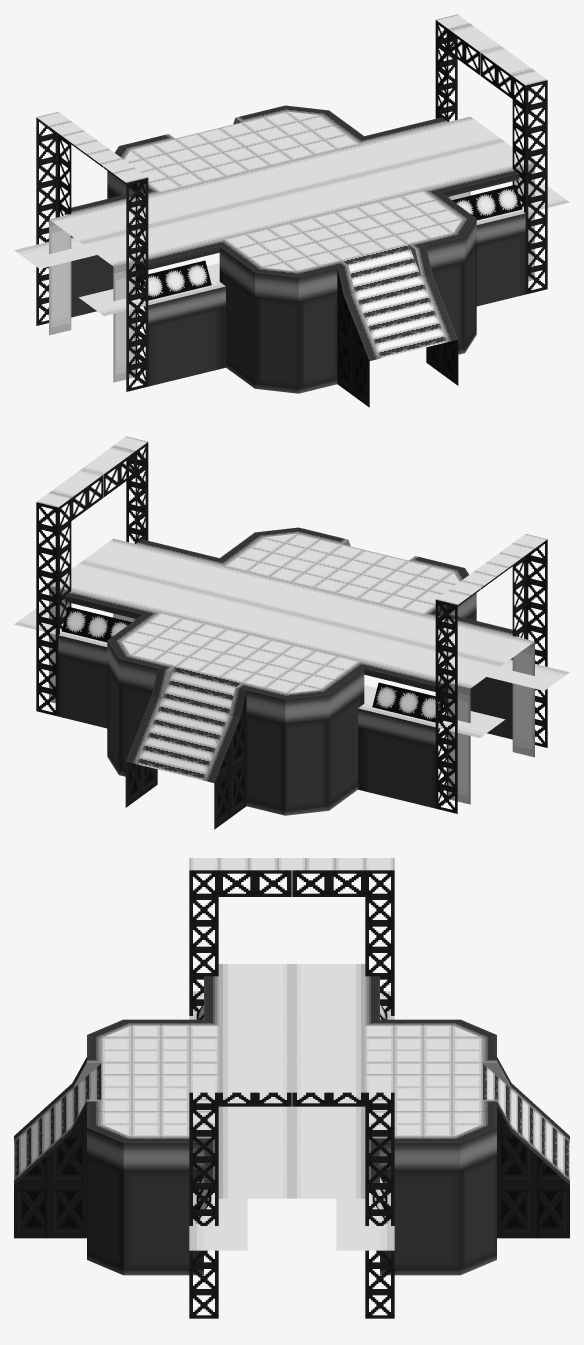
File: GYMSTAGE1-1.obj
3 views of the same model, one above another, from view 1: azimuth 30°, elevation 25°; view 2: azimuth 150°, elevation 25°; view 3: azimuth 270°, elevation 25° (orthographic). The views are drawn at different scales.
Visible parts, largest first — view 1: polygon4, polygon2, polygon10, polygon5, polygon3, polygon10.001, polygon8, polygon7, polygon3.001, polygon2.001; view 2: polygon4, polygon2.001, polygon10.001, polygon5.001, polygon3.001, polygon10, polygon8.001, polygon7.001, polygon3, polygon2; view 3: polygon4, polygon2, polygon2.001, polygon10, polygon10.001, polygon8, polygon8.001, polygon3, polygon3.001, polygon5, polygon5.001.
Part boxes in pixels (left/top/right/bottom): polygon4: left=14, top=14, right=569, bottom=382; polygon2: left=148, top=213, right=525, bottom=393; polygon10: left=103, top=53, right=547, bottom=391; polygon5: left=342, top=244, right=446, bottom=358; polygon3: left=140, top=169, right=519, bottom=361; polygon10.001: left=36, top=20, right=480, bottom=325; polygon8: left=337, top=268, right=458, bottom=407; polygon7: left=139, top=184, right=522, bottom=301; polygon3.001: left=64, top=105, right=447, bottom=214; polygon2.001: left=71, top=171, right=141, bottom=317; polygon4: left=14, top=436, right=569, bottom=804; polygon2.001: left=58, top=635, right=435, bottom=815; polygon10.001: left=36, top=475, right=480, bottom=813; polygon5.001: left=137, top=666, right=241, bottom=780; polygon3.001: left=64, top=591, right=443, bottom=783; polygon10: left=103, top=442, right=547, bottom=747; polygon8.001: left=125, top=690, right=246, bottom=829; polygon7.001: left=61, top=606, right=444, bottom=723; polygon3: left=136, top=527, right=519, bottom=636; polygon2: left=442, top=593, right=512, bottom=739; polygon4: left=101, top=858, right=482, bottom=1250; polygon2: left=87, top=1127, right=203, bottom=1275; polygon2.001: left=380, top=1127, right=496, bottom=1275; polygon10: left=189, top=870, right=291, bottom=1318; polygon10.001: left=292, top=870, right=394, bottom=1318; polygon8: left=14, top=1106, right=86, bottom=1238; polygon8.001: left=497, top=1106, right=569, bottom=1238; polygon3: left=14, top=976, right=218, bottom=1184; polygon3.001: left=365, top=976, right=569, bottom=1184; polygon5: left=14, top=1063, right=101, bottom=1178; polygon5.001: left=482, top=1063, right=569, bottom=1178.
Bounding box in the file's own units: 5.25 × 2.25 × 4.76.
